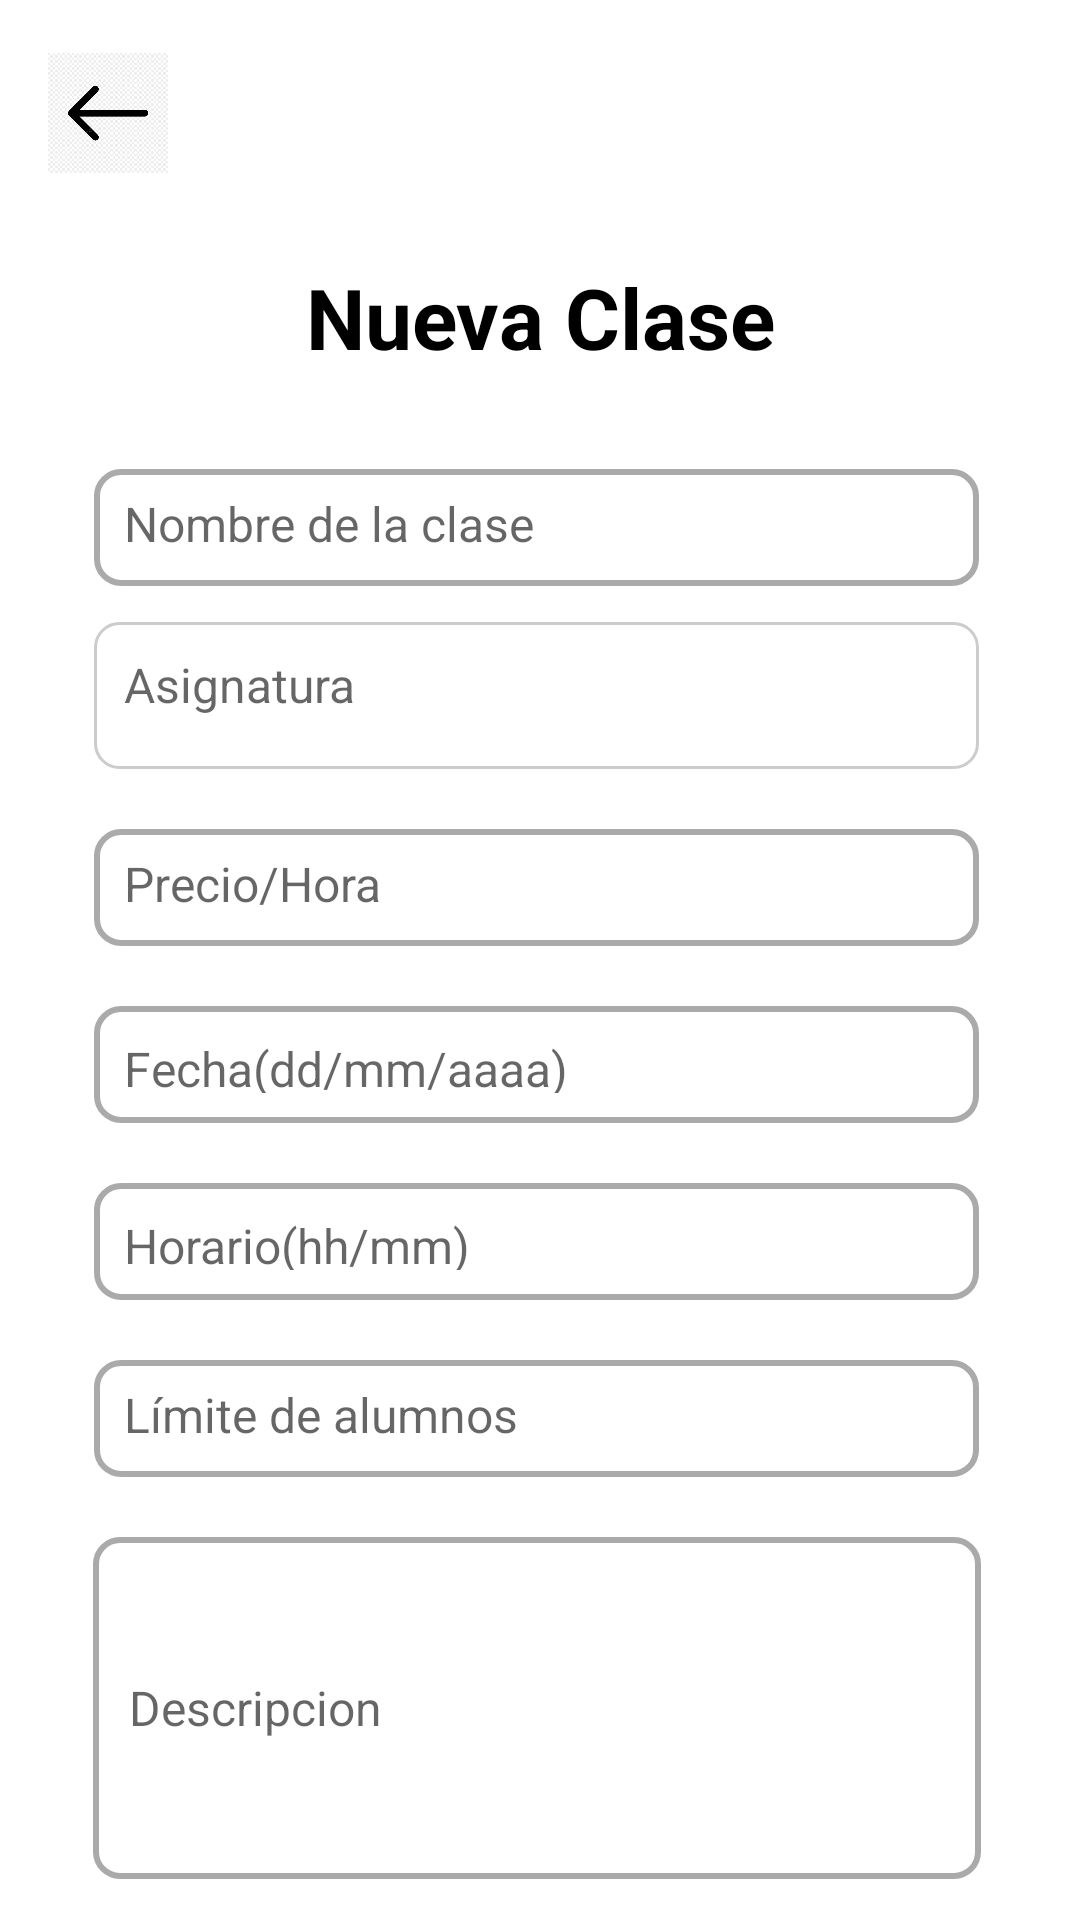

Screen size 1080x1920. Icon name, then its center in pixels as (x,y):
Retroceder: (108,116)
